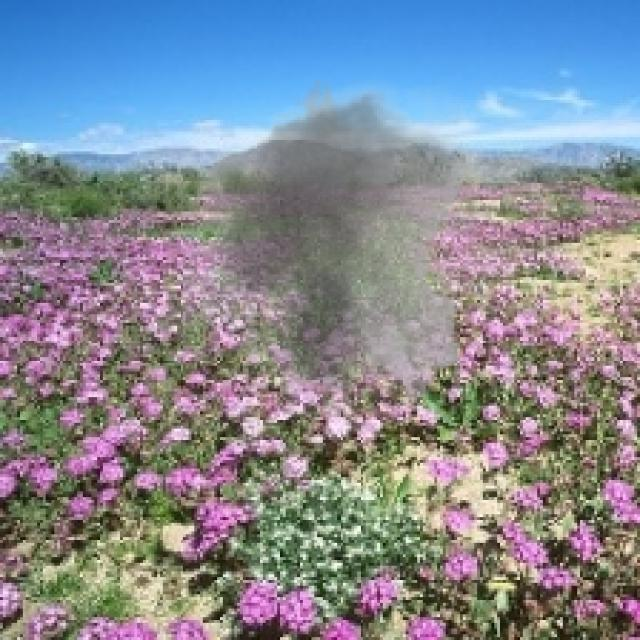Smoke: (157, 66, 537, 423)
